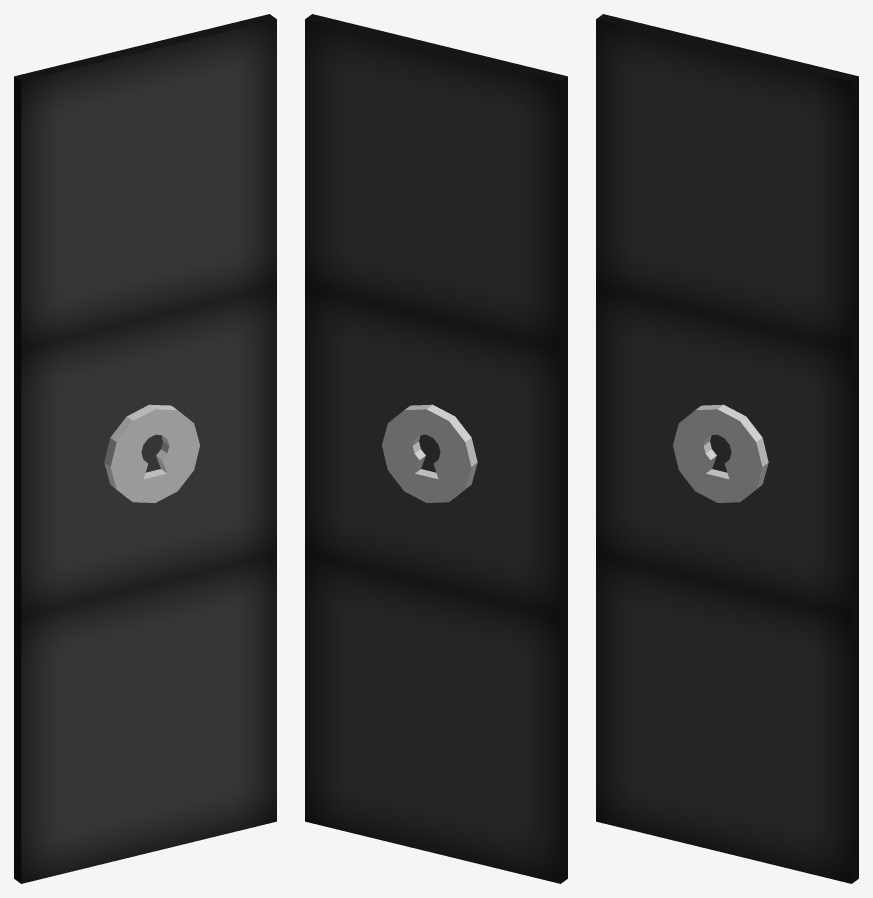
The model's file is Door.obj.
3 views of the same model, side by side, from view 1: azimuth 30°, elevation 25°; view 2: azimuth 150°, elevation 25°; view 3: azimuth 330°, elevation 25° (orthographic).
Parts seen in each view (by area): view 1: group1 pPlane3, pPipe2 group1; view 2: group1 pPlane3, pPipe2 group1; view 3: group1 pPlane3, pPipe2 group1.
Part boxes in pixels (<box>): group1 pPlane3: <box>14,14,276,883</box>; pPipe2 group1: <box>104,404,199,502</box>; group1 pPlane3: <box>305,14,567,883</box>; pPipe2 group1: <box>382,404,477,502</box>; group1 pPlane3: <box>596,14,858,883</box>; pPipe2 group1: <box>673,404,768,502</box>.
Bounding box in the file's own units: 8 × 24 × 1.07.
